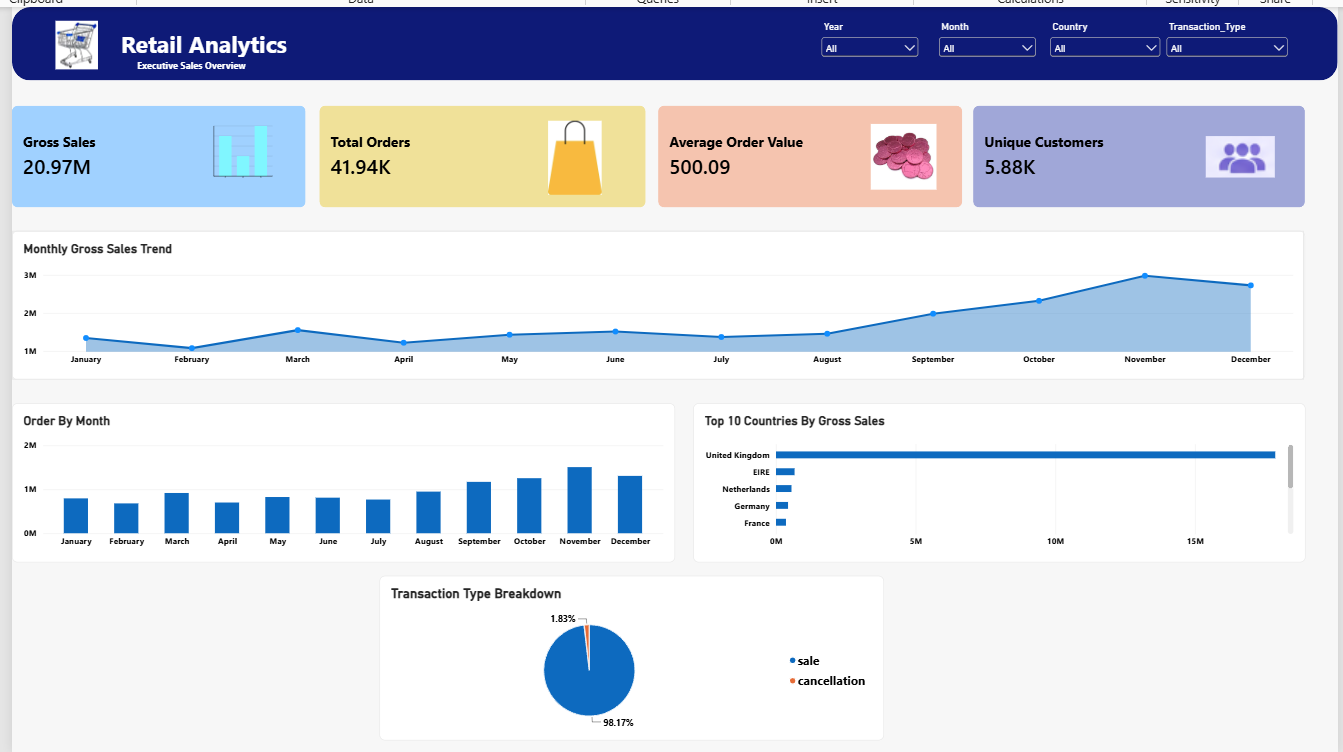

Layout of this report page (visuals, bound fields, positions):
{"tool":"powerbi","page":{"name":"Page 1","canvas":[1920,1080],"ordinal":0},"visuals":[{"type":"shape","box":[0,0,1919.4,106.5],"z":0},{"type":"cardVisual","fields":{"Data":["Sum(Sales_KPIs.gross_sales_gbp)"]},"box":[0,142.5,425,147.5],"z":1000},{"type":"cardVisual","fields":{"Data":["Sum(Sales_KPIs.average_order_value_gbp)"]},"box":[935,142.5,440,147.5],"z":2000},{"type":"cardVisual","fields":{"Data":["Sum(Sales_KPIs.total_orders)"]},"box":[445,142.5,472.5,147.5],"z":3000},{"type":"cardVisual","fields":{"Data":["Sum(Sales_KPIs.unique_customers)"]},"box":[1392.5,142.5,480,147.5],"z":4000},{"type":"lineChart","title":"Monthly Gross Sales Trend","fields":{"Category":["Monthly_sales.sales_month.Variation.Date Hierarchy.Month"],"Y":["Sum(Monthly_sales.gross_sales_gbp)"]},"box":[0,324,1872,216],"z":5000},{"type":"clusteredBarChart","title":"Top 10 Countries By Gross Sales","fields":{"Category":["Sales by country.country"],"Y":["Sum(Sales by country.gross_sales_gbp)"]},"box":[986,574,886,230],"z":6000},{"type":"clusteredColumnChart","title":"Order By Month","fields":{"Category":["Monthly_sales.sales_month.Variation.Date Hierarchy.Month"],"Y":["Sum(Monthly_sales.units_sold)"]},"box":[0,574,960,230],"z":7000},{"type":"pieChart","title":"Transaction Type Breakdown","fields":{"Category":["transactions.transaction_type"],"Y":["CountNonNull(transactions.transaction_type)"]},"box":[532,824,730,238],"z":8000},{"type":"slicer","fields":{"Values":["transactions.year"]},"box":[1168,20,150,76],"z":9000},{"type":"slicer","fields":{"Values":["transactions.month"]},"box":[1338,20,150,76],"z":10000},{"type":"slicer","fields":{"Values":["transactions.country"]},"box":[1498,20,169,76],"z":11000},{"type":"slicer","fields":{"Values":["transactions.transaction_type"]},"box":[1667,20,185,71],"z":12000},{"type":"image","box":[52.5,20,82.5,70],"z":13000},{"type":"textbox","box":[0,846,212,28],"z":14000},{"type":"shape","box":[154,72,212,24],"z":15000},{"type":"image","box":[272.9,142.9,111.4,147.1],"z":15001},{"type":"image","box":[767.5,165,95,107.5],"z":15002},{"type":"image","box":[1242.5,162.5,95,107.5],"z":15003},{"type":"image","box":[1728,162,100,108],"z":15004}]}

Visuals, with their boxes on the page's 1920x1080 design canvas (x1, y1, x2, y2). These are canvas units, not pixel positions in the 1343x752 screenshot, which may show the page scaled, cropped or inside an application window:
shape: (0, 0, 1919, 106)
cardVisual - Sum(Sales_KPIs.gross_sales_gbp): (0, 142, 425, 290)
cardVisual - Sum(Sales_KPIs.average_order_value_gbp): (935, 142, 1375, 290)
cardVisual - Sum(Sales_KPIs.total_orders): (445, 142, 918, 290)
cardVisual - Sum(Sales_KPIs.unique_customers): (1392, 142, 1872, 290)
"Monthly Gross Sales Trend" lineChart: (0, 324, 1872, 540)
"Top 10 Countries By Gross Sales" clusteredBarChart: (986, 574, 1872, 804)
"Order By Month" clusteredColumnChart: (0, 574, 960, 804)
"Transaction Type Breakdown" pieChart: (532, 824, 1262, 1062)
slicer - transactions.year: (1168, 20, 1318, 96)
slicer - transactions.month: (1338, 20, 1488, 96)
slicer - transactions.country: (1498, 20, 1667, 96)
slicer - transactions.transaction_type: (1667, 20, 1852, 91)
image: (52, 20, 135, 90)
textbox: (0, 846, 212, 874)
shape: (154, 72, 366, 96)
image: (273, 143, 384, 290)
image: (768, 165, 862, 272)
image: (1242, 162, 1338, 270)
image: (1728, 162, 1828, 270)
